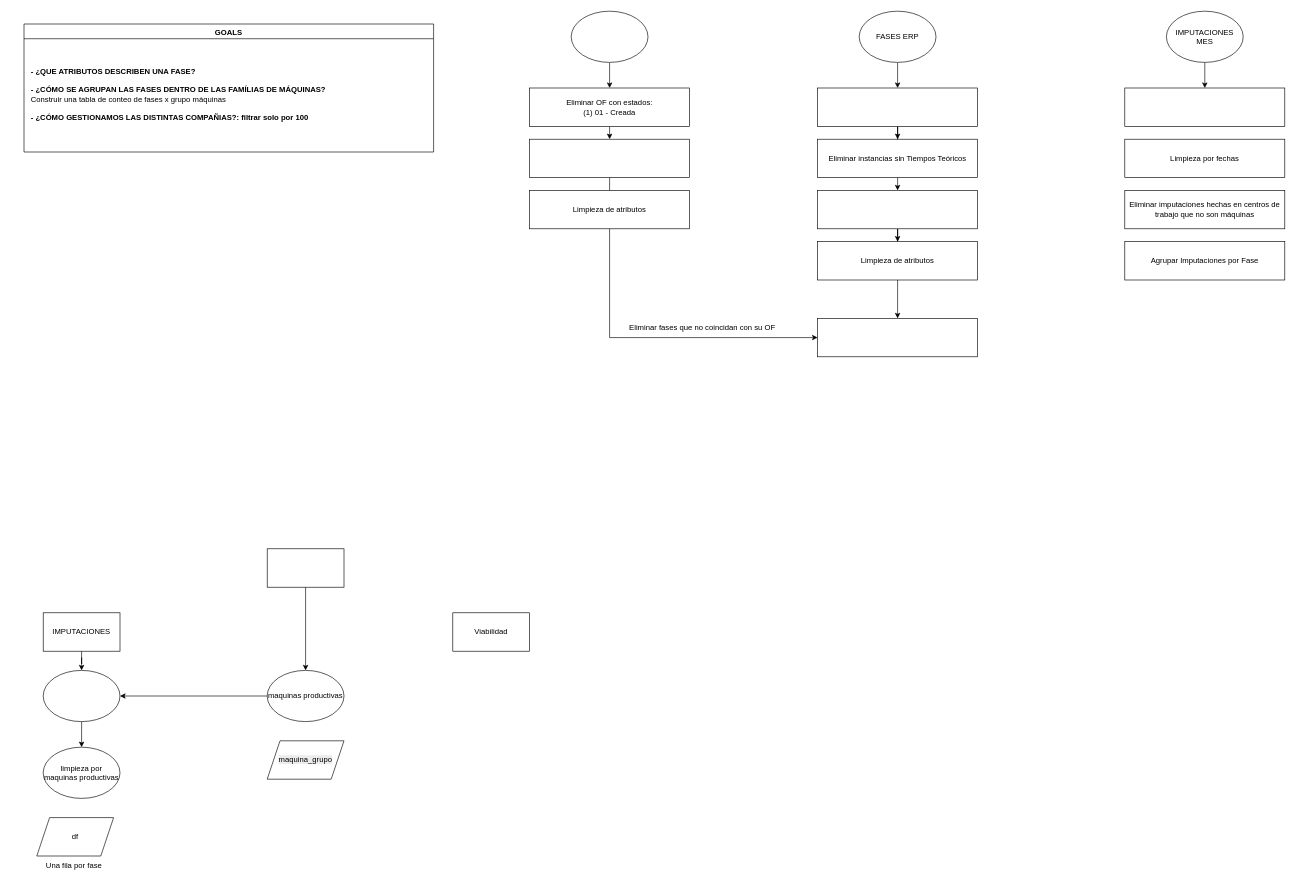
This 1296x886 diagram has some shape labels left out. The shapes that lost their labels are listed below. From the top down, each one's centre as x and y in pixels, then its label:
At (609,36): "OF ERP".
At (897,106): "Eliminar instancias de Fases externas o canceladas".
At (1204,106): "Selección de atributos".
At (609,158): "Eliminar OF donde su fecha prevista de finalización sea después de agosto".
At (897,209): "Eliminar instancias previas a Junio 2025".
At (897,337): "Eliminar fases sin OF".
At (305,567): "MAQUINAS".
At (81,696): "limpieza inicial".
